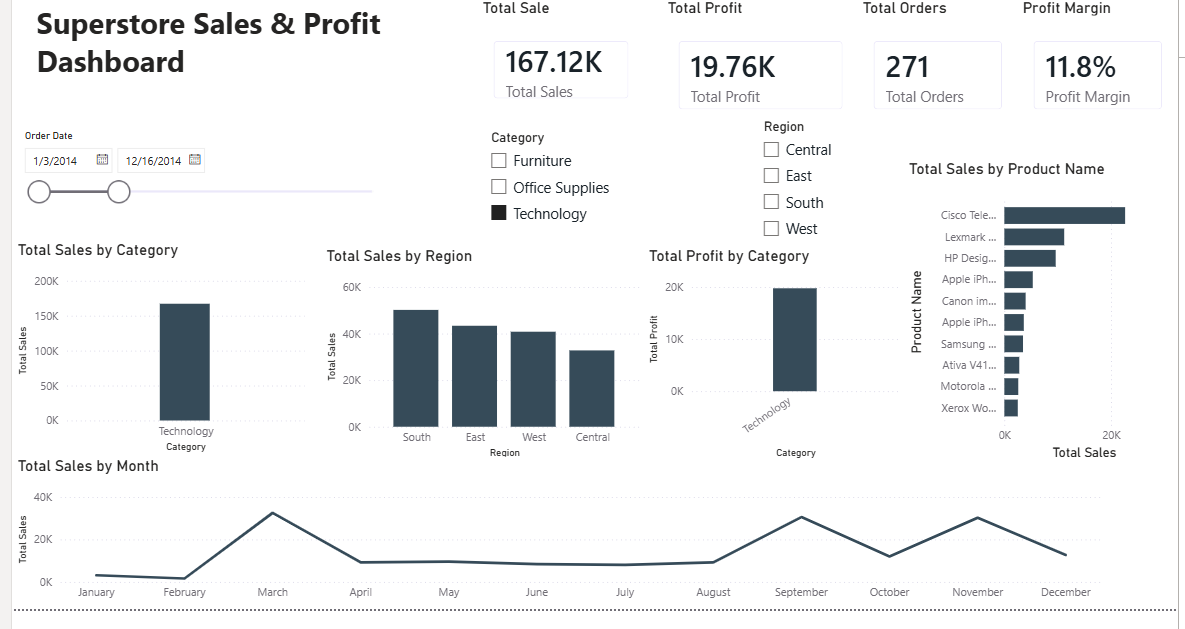

The dashboard page shown, as its layout file describes it:
{"tool":"powerbi","page":{"name":"Page 1","canvas":[1280,720],"ordinal":0},"visuals":[{"type":"cardVisual","title":"Total Sale","fields":{"Data":["SalesData.Total Sales"]},"box":[511.8,49.4,182.5,127.6],"z":0},{"type":"cardVisual","title":"Total Profit","fields":{"Data":["SalesData.Total Profit"]},"box":[714.9,49.4,214.1,140],"z":1000},{"type":"cardVisual","title":"Total Orders","fields":{"Data":["SalesData.Total Orders"]},"box":[929,49.4,175.6,140],"z":2000},{"type":"cardVisual","title":"Profit Margin","fields":{"Data":["SalesData.Profit Margin"]},"box":[1104.6,49.4,175.6,140],"z":3000},{"type":"clusteredColumnChart","fields":{"Category":["SalesData.Category"],"Y":["SalesData.Total Sales"]},"box":[1.4,315.6,325.2,237.4],"z":4000},{"type":"clusteredColumnChart","fields":{"Category":["SalesData.Region"],"Y":["SalesData.Total Sales"]},"box":[340.3,322.5,354,237.4],"z":5000},{"type":"lineChart","fields":{"Category":["SalesData.Order Date.Variation.Date Hierarchy.Month"],"Y":["SalesData.Total Sales"]},"box":[1.4,553,1199.3,167.4],"z":6000},{"type":"clusteredColumnChart","fields":{"Category":["SalesData.Category"],"Y":["SalesData.Total Profit"]},"box":[694.3,322.5,285.4,237.4],"z":7000},{"type":"clusteredBarChart","fields":{"Category":["SalesData.Product Name"],"Y":["SalesData.Total Sales"]},"box":[979.8,226.4,300.5,334.8],"z":8000},{"type":"slicer","fields":{"Values":["SalesData.Order Date"]},"box":[1.4,189.4,417.2,116.6],"z":9000},{"type":"slicer","fields":{"Values":["SalesData.Category"]},"box":[513.2,189.4,174.3,116.6],"z":10000},{"type":"slicer","fields":{"Values":["SalesData.Region"]},"box":[812.4,177,146.8,148.2],"z":11000},{"type":"textbox","box":[22,49.4,406.2,118],"z":11001}]}

Visuals, with their boxes on the page's 1280x720 design canvas (x1, y1, x2, y2). These are canvas units, not pixel positions in the 1185x629 screenshot, which may show the page scaled, cropped or inside an application window:
"Total Sale" cardVisual: 512/49/694/177
"Total Profit" cardVisual: 715/49/929/189
"Total Orders" cardVisual: 929/49/1105/189
"Profit Margin" cardVisual: 1105/49/1280/189
clusteredColumnChart - SalesData.Category x SalesData.Total Sales: 1/316/327/553
clusteredColumnChart - SalesData.Region x SalesData.Total Sales: 340/322/694/560
lineChart - SalesData.Order Date.Variation.Date Hierarchy.Month x SalesData.Total Sales: 1/553/1201/720
clusteredColumnChart - SalesData.Category x SalesData.Total Profit: 694/322/980/560
clusteredBarChart - SalesData.Product Name x SalesData.Total Sales: 980/226/1280/561
slicer - SalesData.Order Date: 1/189/419/306
slicer - SalesData.Category: 513/189/688/306
slicer - SalesData.Region: 812/177/959/325
textbox: 22/49/428/167
